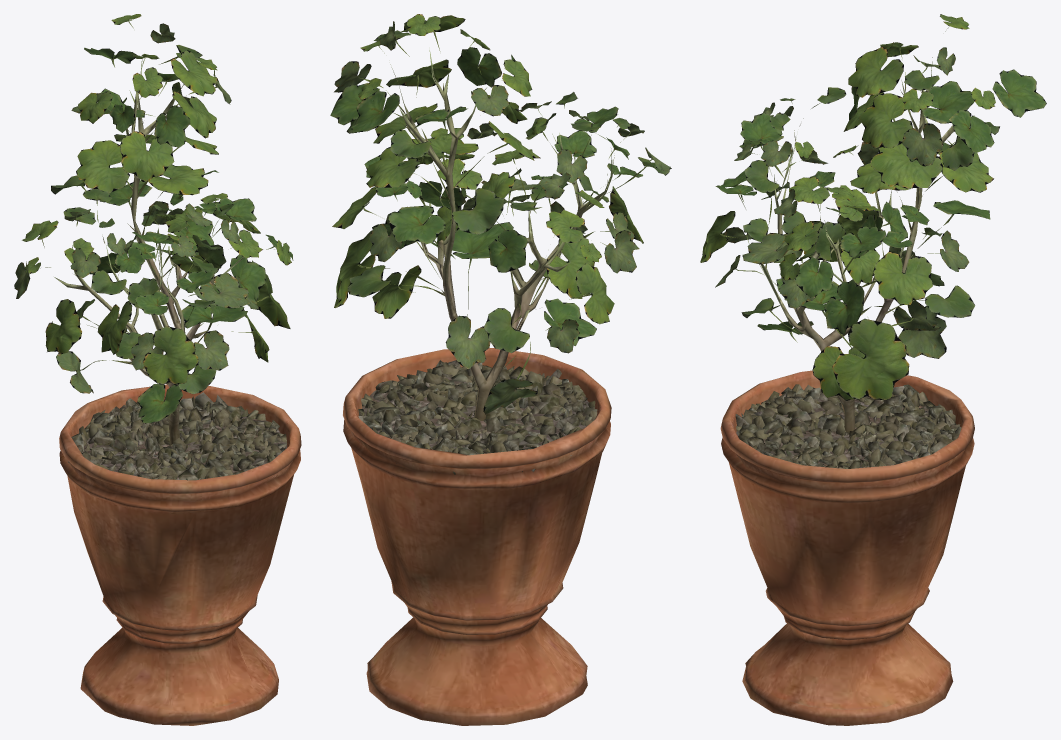
Rendered from plant.glb.
The picture shows the model from 3 angles, left to right: view 1: azimuth 30°, elevation 25°; view 2: azimuth 150°, elevation 25°; view 3: azimuth 270°, elevation 25°; orthographic projection. The views are drawn at different scales.
Visible parts, largest first — view 1: potted_plant_01_pot, potted_plant_01_leaves, potted_plant_01_pebbles, potted_plant_01_stem; view 2: potted_plant_01_pot, potted_plant_01_leaves, potted_plant_01_pebbles, potted_plant_01_stem; view 3: potted_plant_01_pot, potted_plant_01_leaves, potted_plant_01_pebbles, potted_plant_01_stem.
Part boxes in pixels (x1=…): potted_plant_01_pot: x1=59, y1=384, x2=301, y2=725; potted_plant_01_leaves: x1=14, y1=14, x2=293, y2=423; potted_plant_01_pebbles: x1=68, y1=392, x2=286, y2=480; potted_plant_01_stem: x1=54, y1=58, x2=244, y2=444; potted_plant_01_pot: x1=343, y1=348, x2=611, y2=725; potted_plant_01_leaves: x1=330, y1=14, x2=671, y2=414; potted_plant_01_pebbles: x1=358, y1=360, x2=597, y2=474; potted_plant_01_stem: x1=399, y1=50, x2=612, y2=420; potted_plant_01_pot: x1=720, y1=370, x2=974, y2=725; potted_plant_01_leaves: x1=700, y1=14, x2=1046, y2=400; potted_plant_01_pebbles: x1=735, y1=384, x2=961, y2=468; potted_plant_01_stem: x1=760, y1=57, x2=966, y2=434.
Size of the model in its own units: 0.5866 by 1.34 by 0.6336.
Materials: 2 (2 with a texture image).
